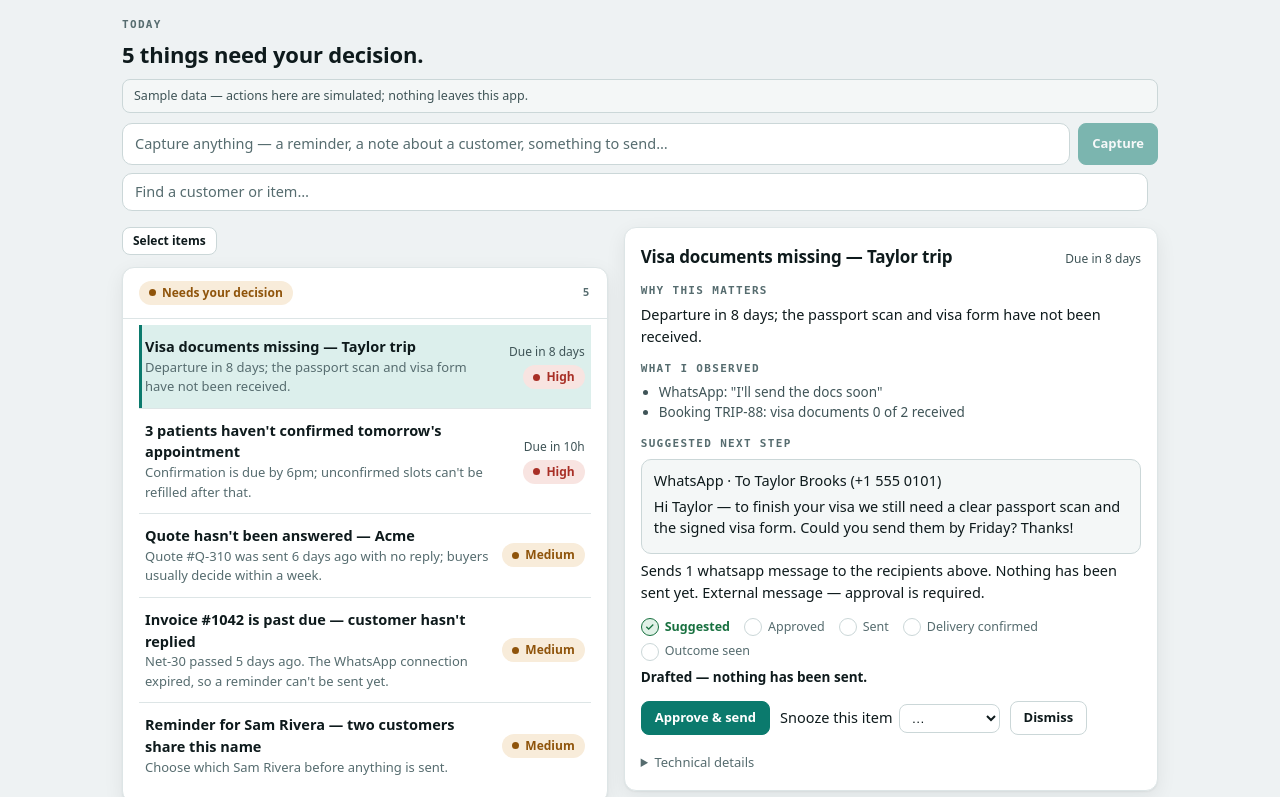
Quick capture → Today (travel vertical) › an ambiguous note asks which case, acts on none, and resolves to the chosen one
Expected: the heading "5 things need your decision." is shown, [122,38,423,68]
Replace the text in the field named "Quick capture" with "the passport and visa documents are still missing": (596,144) [122,123,1070,165]
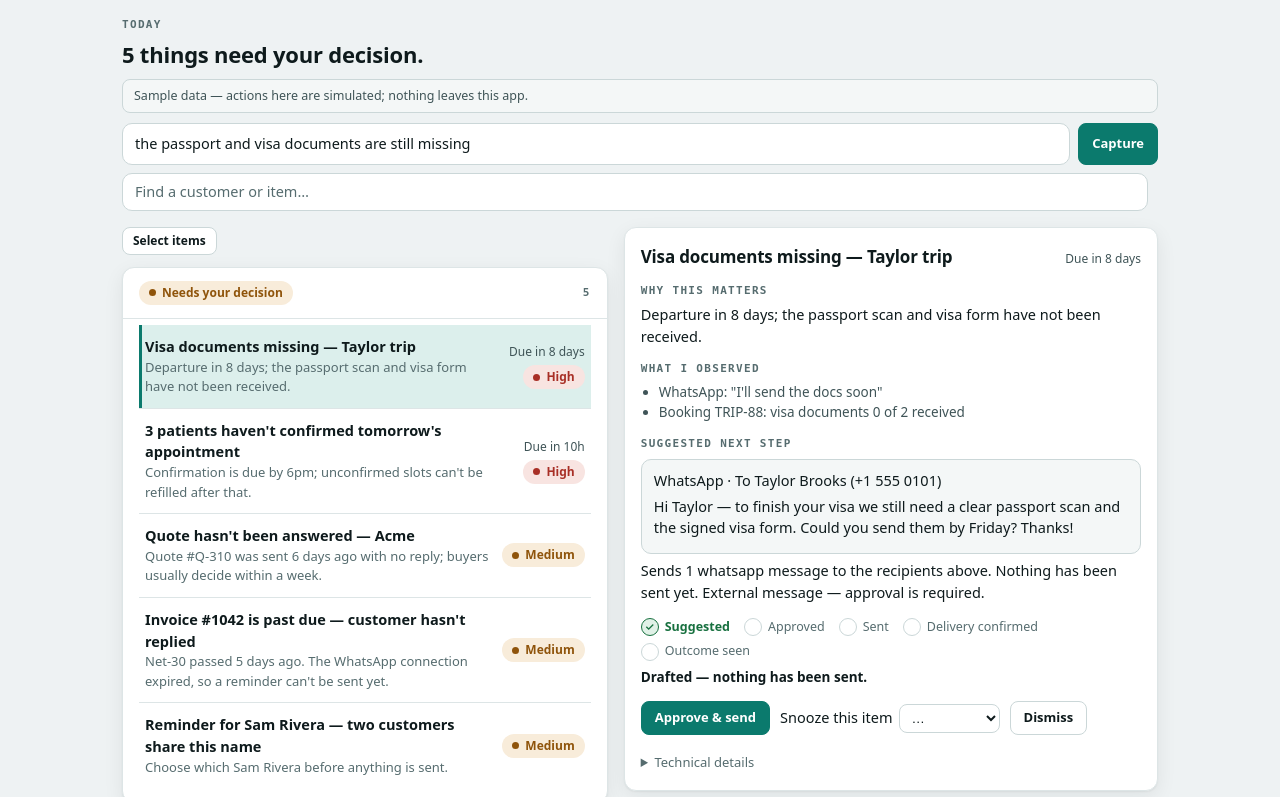
Click the button "Capture": (1118,144) [1078,123,1158,165]
(page scrolled)
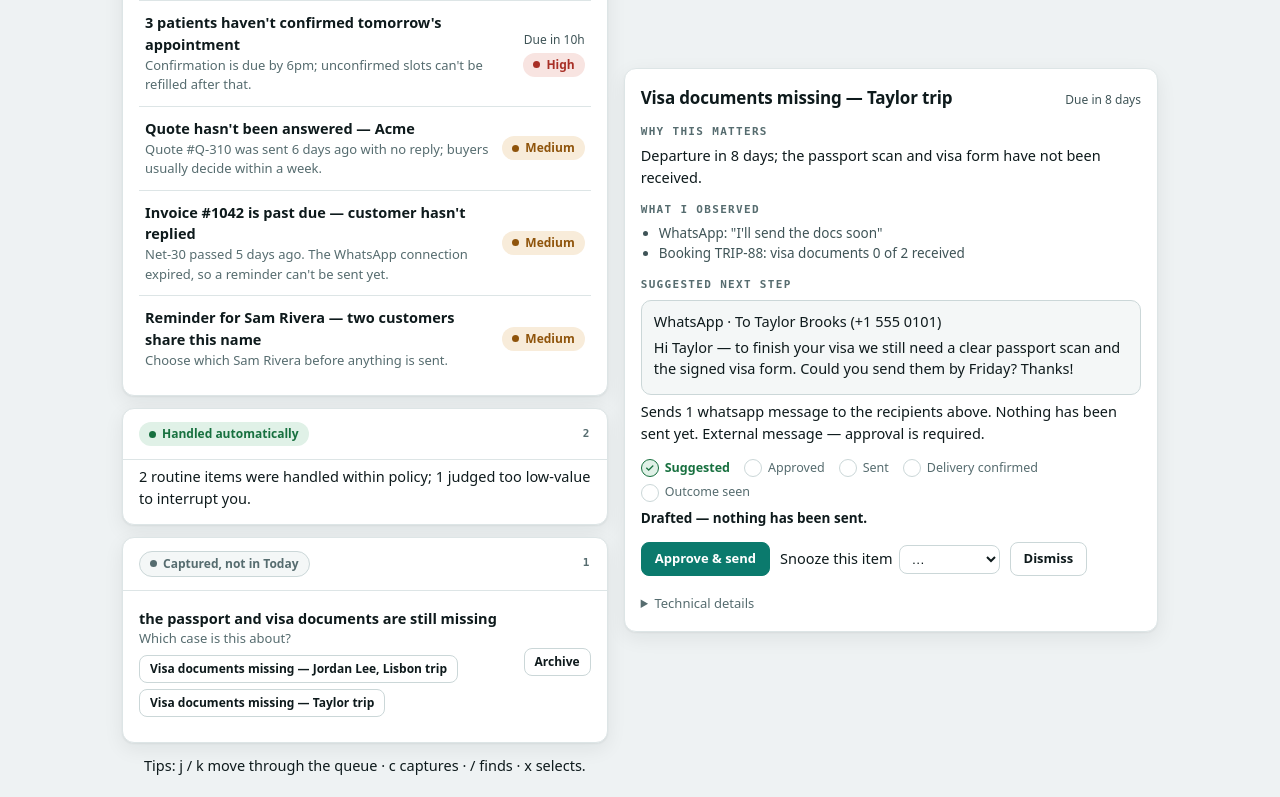
Now the text "Which case is this about?" is shown, box [139,629,291,647]
Click the button "Visa documents missing — Jordan Lee, Lisbon trip": (298,669) [139,655,458,683]
(page scrolled)
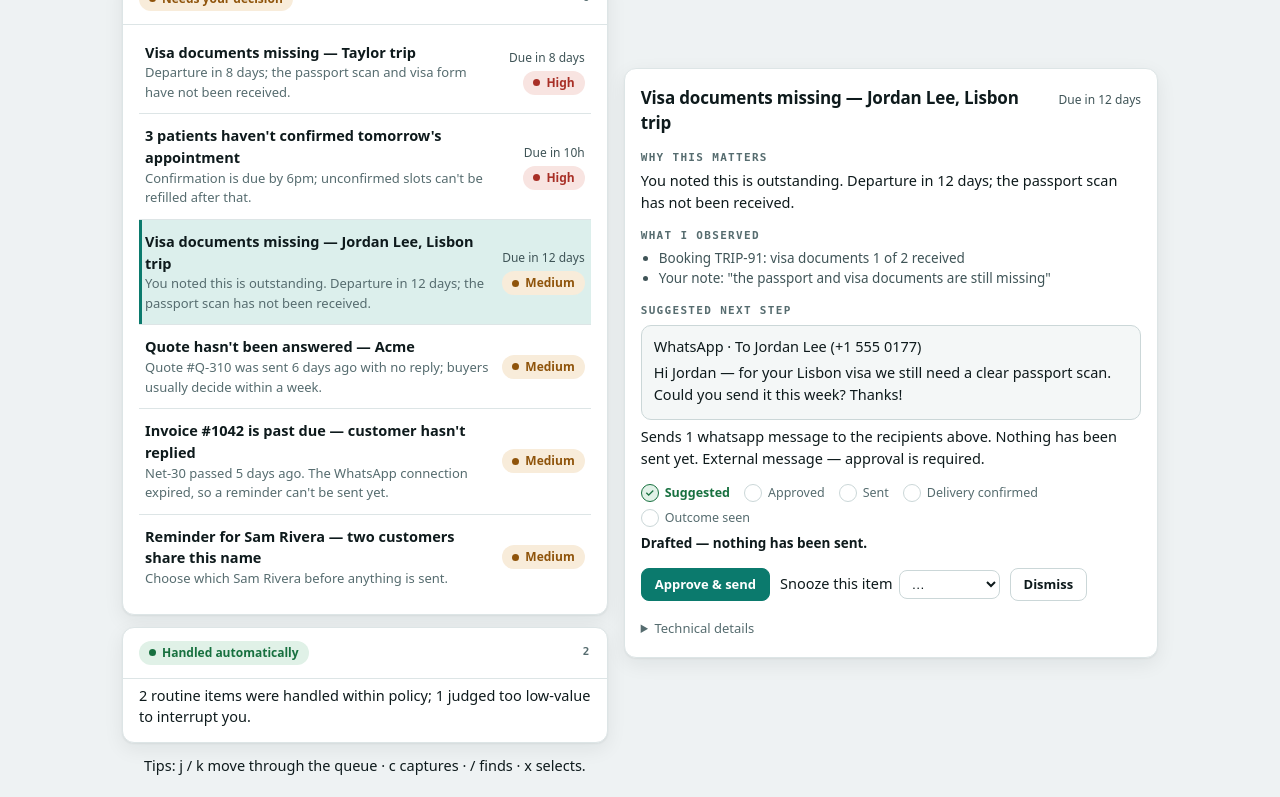
Now the heading "Visa documents missing — Jordan Lee, Lisbon trip" is shown, box [641,84,1048,135]
Now the field labelled "Intake" is gone
